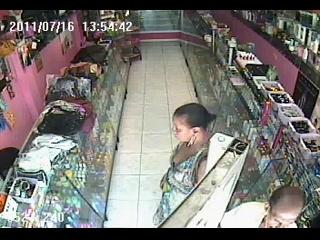Normal: (152, 103, 215, 224), (217, 186, 308, 228)
